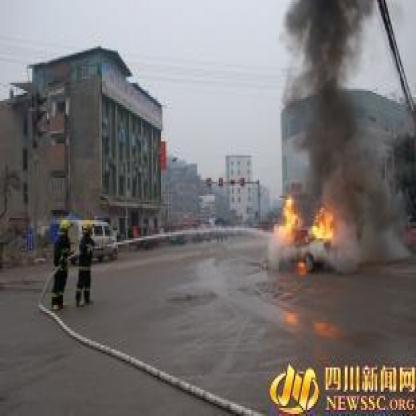fire: (270, 188, 340, 245)
smoke: (277, 4, 383, 212)
